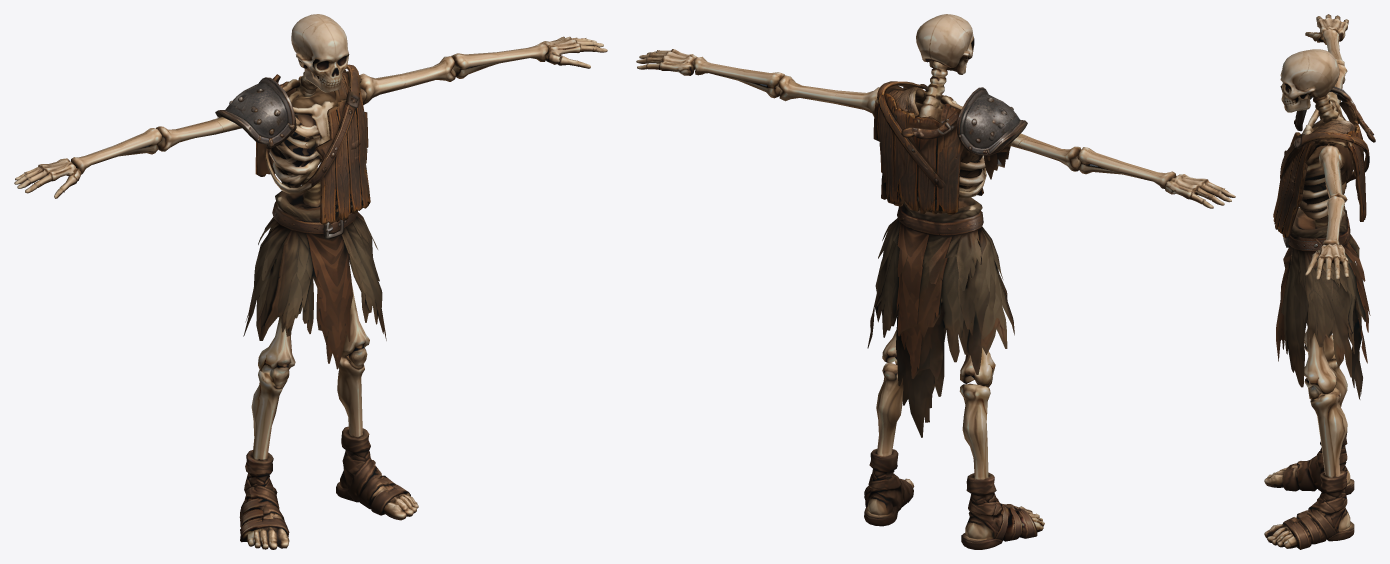
The model's file is U02_charnel_dead.glb.
3 renders of one model, left to right at view 1: azimuth 30°, elevation 25°; view 2: azimuth 150°, elevation 25°; view 3: azimuth 270°, elevation 25°, orthographic. The views are drawn at different scales.
Parts seen in each view (by area): view 1: fda8d255_eb1c_4a08_885f_908c04ad1784; view 2: fda8d255_eb1c_4a08_885f_908c04ad1784; view 3: fda8d255_eb1c_4a08_885f_908c04ad1784.
Part boxes in pixels (box(x1,y1,x2,y2)): fda8d255_eb1c_4a08_885f_908c04ad1784: box(14, 14, 607, 549); fda8d255_eb1c_4a08_885f_908c04ad1784: box(636, 14, 1235, 549); fda8d255_eb1c_4a08_885f_908c04ad1784: box(1264, 14, 1375, 549).
Bounding box in the file's own units: 0.9995 × 0.814 × 0.1782.
1 material, 1 textured.
